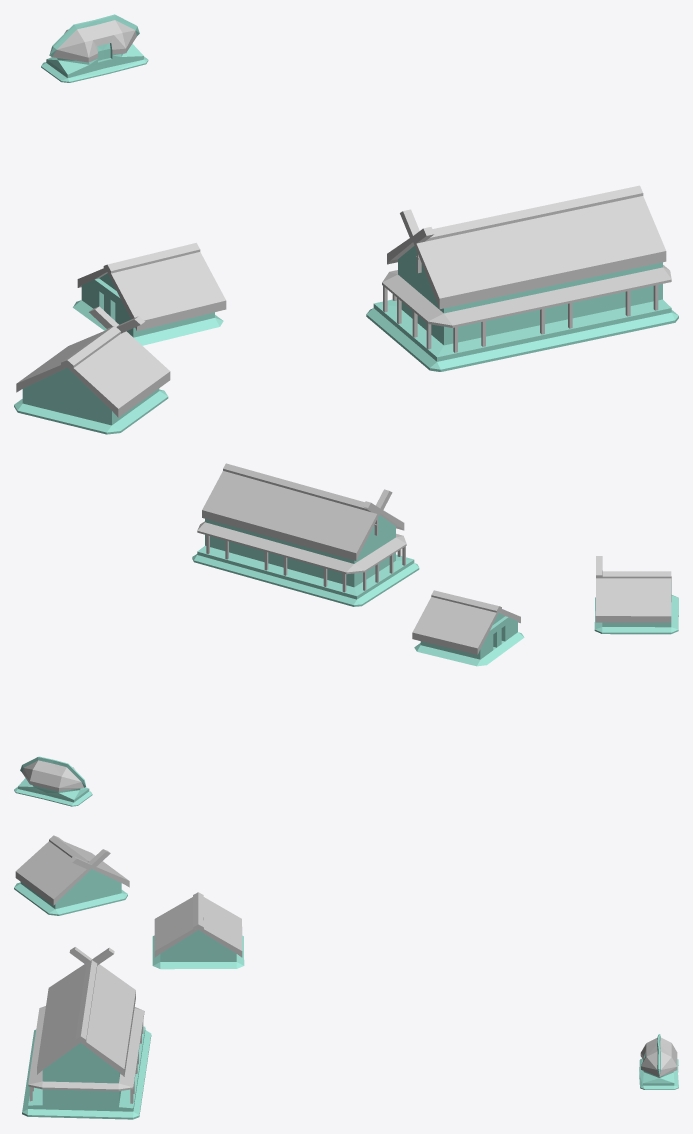
The model's file is husText0.dae.
3 renders of one model, top to bottom at view 1: azimuth 30°, elevation 25°; view 2: azimuth 150°, elevation 25°; view 3: azimuth 270°, elevation 25°, orthographic. The views are drawn at different scales.
Visible parts, largest first — view 1: Cube_007, Cube_004, enkelhus, batHus; view 2: Cube_007, enkelhus, Cube_004, batHus; view 3: Cube_007, Cube_004, enkelhus, batHus.
Part boxes in pixels (box(x1,y1,x2,y2)): Cube_007: box(366, 185, 678, 371); Cube_004: box(14, 306, 170, 434); enkelhus: box(73, 242, 226, 345); batHus: box(41, 14, 148, 82); Cube_007: box(192, 463, 419, 606); enkelhus: box(412, 590, 524, 666); Cube_004: box(594, 556, 678, 634); batHus: box(14, 756, 92, 806); Cube_007: box(22, 947, 151, 1119); Cube_004: box(14, 835, 129, 915); enkelhus: box(152, 892, 244, 969); batHus: box(639, 1034, 678, 1089).
Size of the model in its own units: 35.4 by 43.59 by 7.52.
